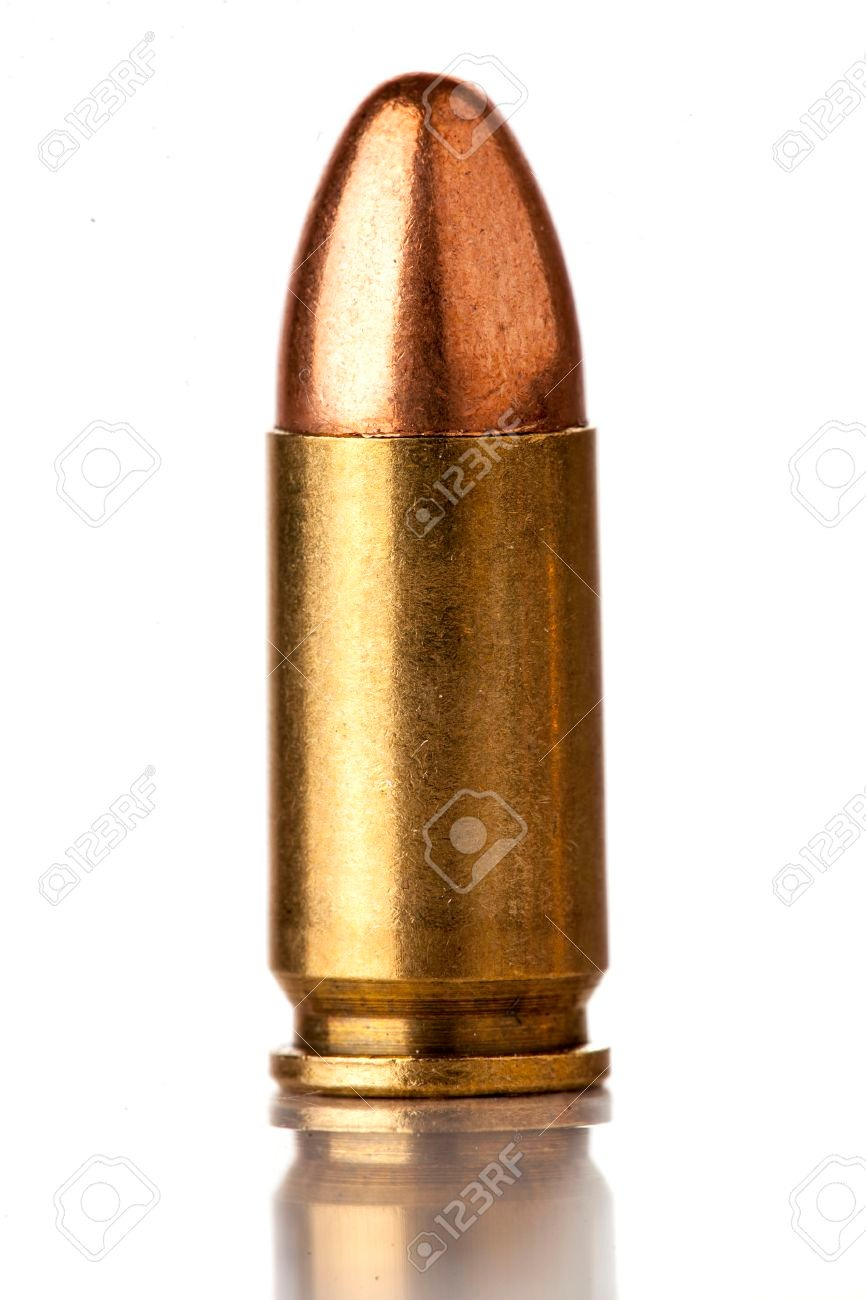bullet: (241, 61, 612, 1134)
